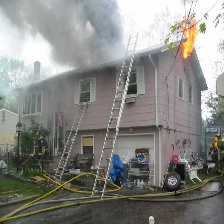fire: (175, 16, 197, 57)
smoke: (3, 1, 125, 65)
